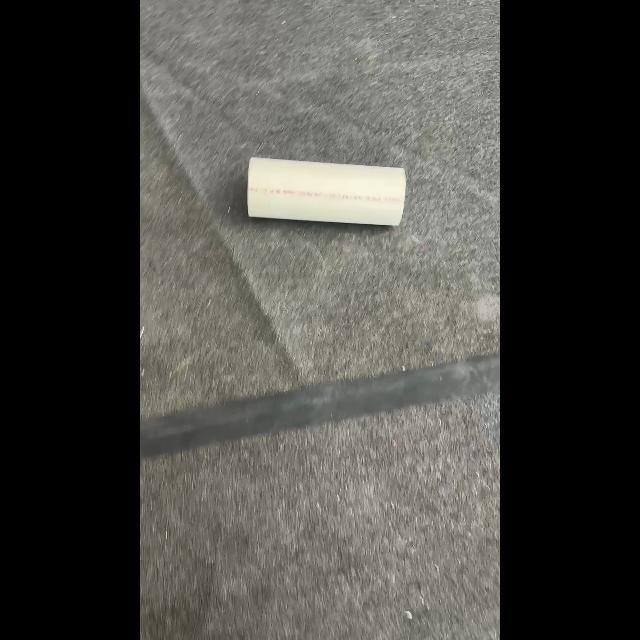CORAL: (246, 156, 406, 227)
